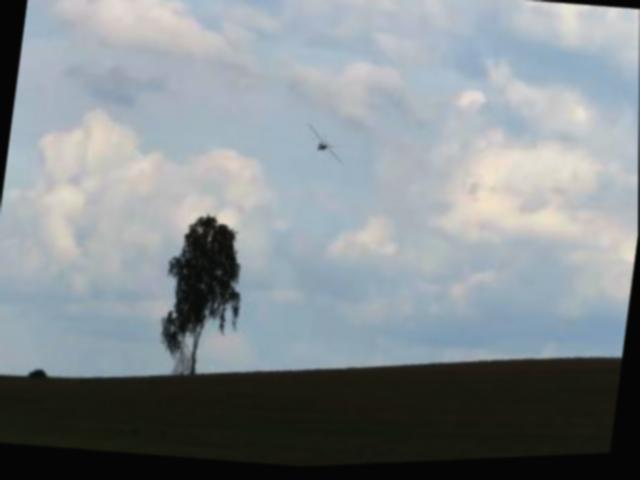uav: (301, 123, 351, 172)
